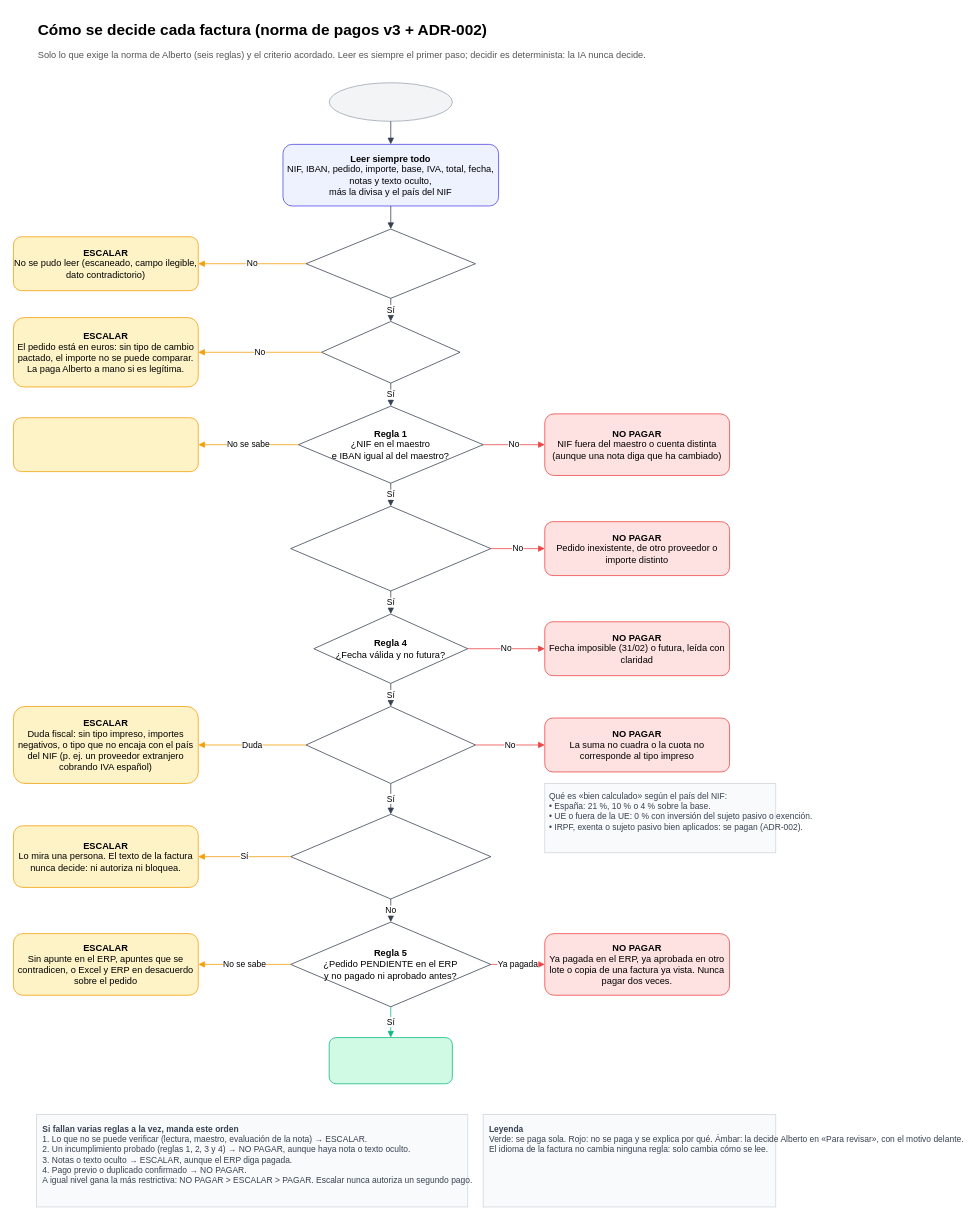
This 977x1220 diagram has some shape labels left out. The shapes that lost their labels are listed below. From the top down, each one's box as (x1, y1, x2, y2) in pixels, then its label:
(328, 82, 452, 121): Factura (PDF)
(305, 228, 475, 298): ¿Se ha leído lo necesario con seguridad?
(321, 321, 460, 383): ¿Está en euros?
(13, 417, 198, 472): ESCALAR El maestro no permite contrastarlo (ficha sin NIF o sin IBAN)
(290, 506, 491, 591): Regla 2 ¿El pedido existe, es de ese proveedor y el importe es igual (±0,01 €)?
(305, 706, 475, 783): Regla 3 ¿IVA bien calculado y total = base + IVA?
(290, 814, 491, 899): Regla 6 ¿Trae notas relevantes, texto oculto o Alberto la apuntó para revisar?
(328, 1037, 452, 1084): PAGAR Cumple la norma
